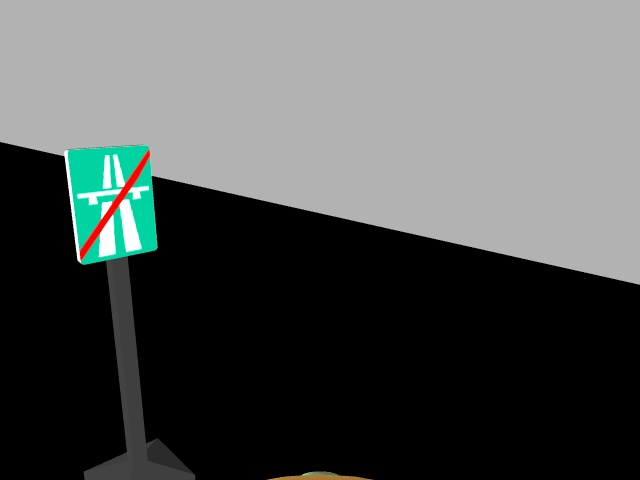HighwayExit: (62, 144, 159, 266)
